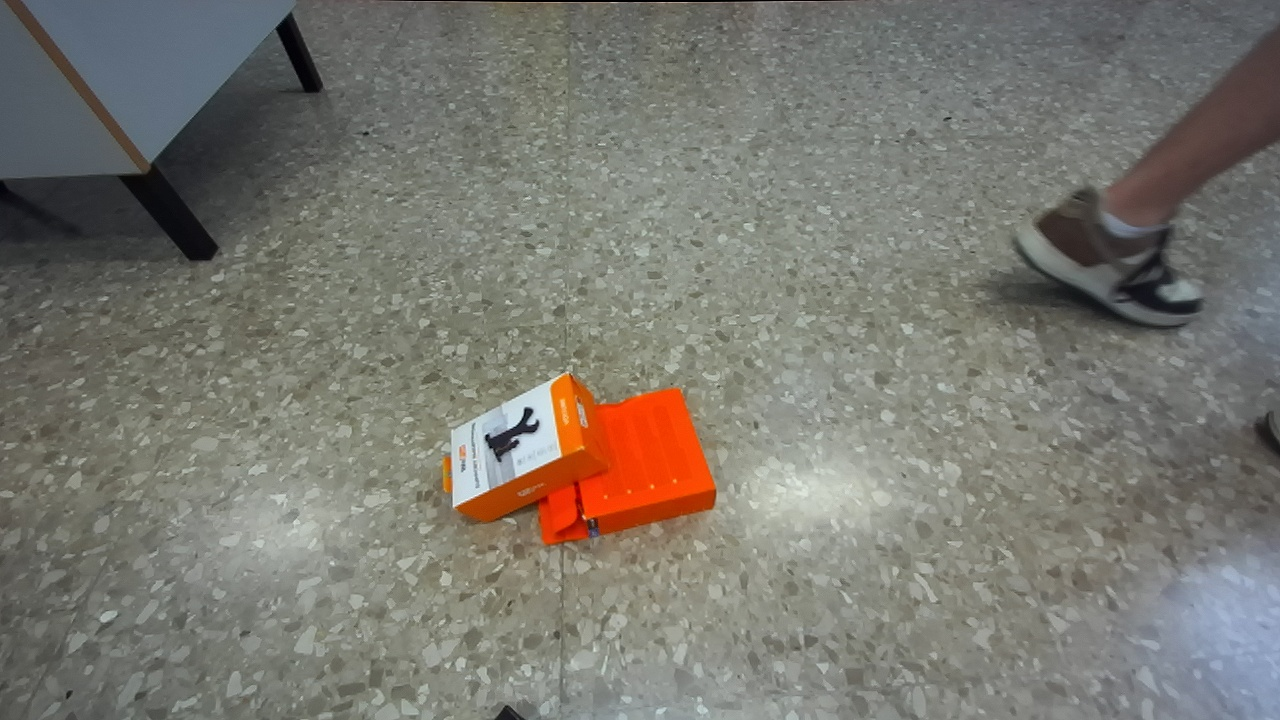caja_manguera: (539, 389, 715, 543)
caja_pcb: (445, 373, 608, 520)
